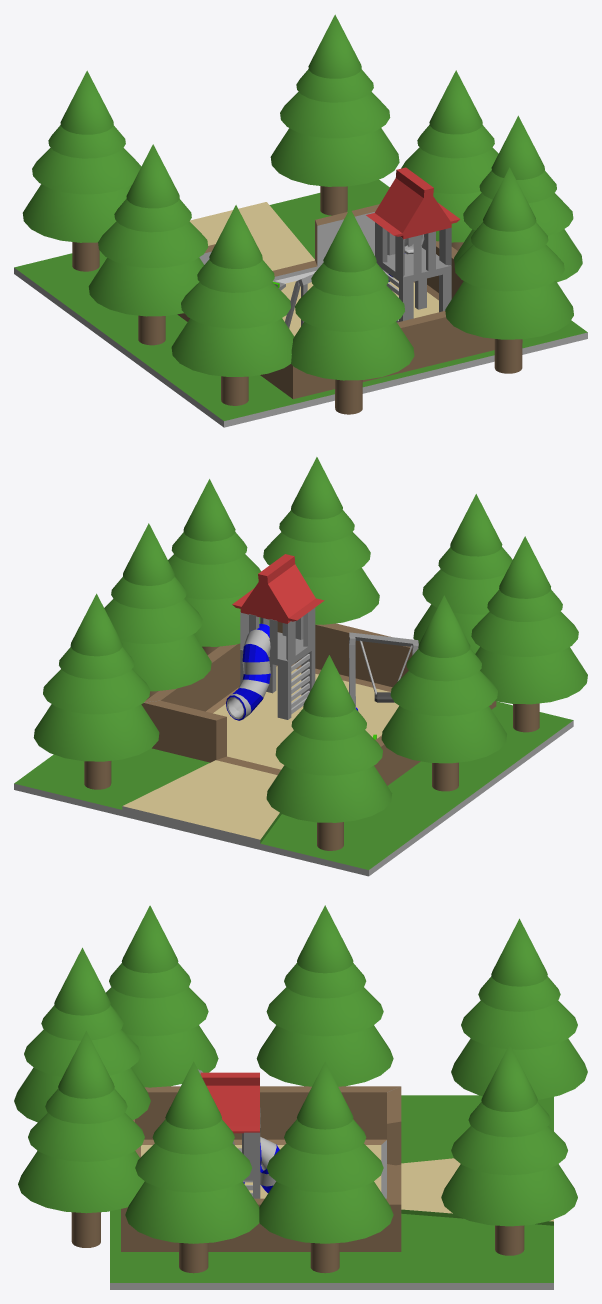
Rendered from fmp_-_greybox_playground_concept_1.glb.
The picture shows the model from 3 angles, top to bottom: view 1: azimuth 30°, elevation 25°; view 2: azimuth 150°, elevation 25°; view 3: azimuth 270°, elevation 25°; orthographic projection. The views are drawn at different scales.
Parts seen in each view (by area): view 1: numerouno; view 2: numerouno; view 3: numerouno.
Part boxes in pixels (box(x1,y1,x2,y2)): numerouno: box(14, 14, 587, 427); numerouno: box(14, 457, 587, 876); numerouno: box(14, 905, 587, 1289).
Size of the model in its own units: 310 by 145 by 351.
